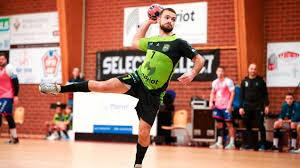ballon_handball: (147, 4, 164, 21)
